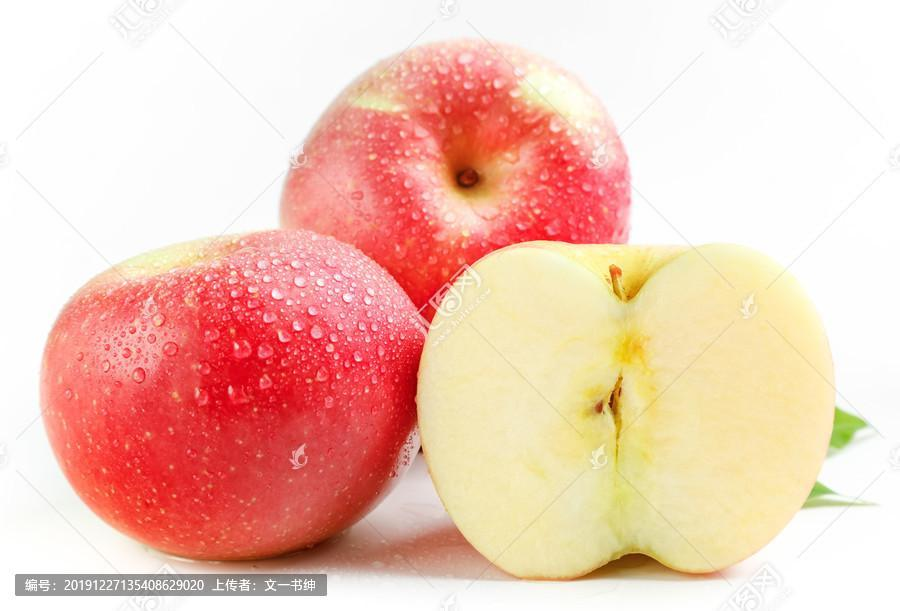apple: (37, 239, 426, 568), (290, 36, 645, 317)
